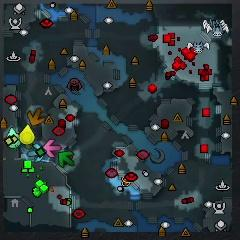p2: (6, 127, 20, 148)
p4: (20, 125, 35, 144)
x1: (43, 140, 61, 156)
x3: (28, 144, 43, 162)
x4: (58, 151, 74, 167)
x5: (27, 108, 44, 126)
